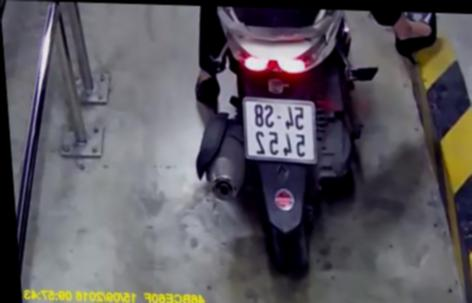License_Plate: (237, 94, 326, 169)
